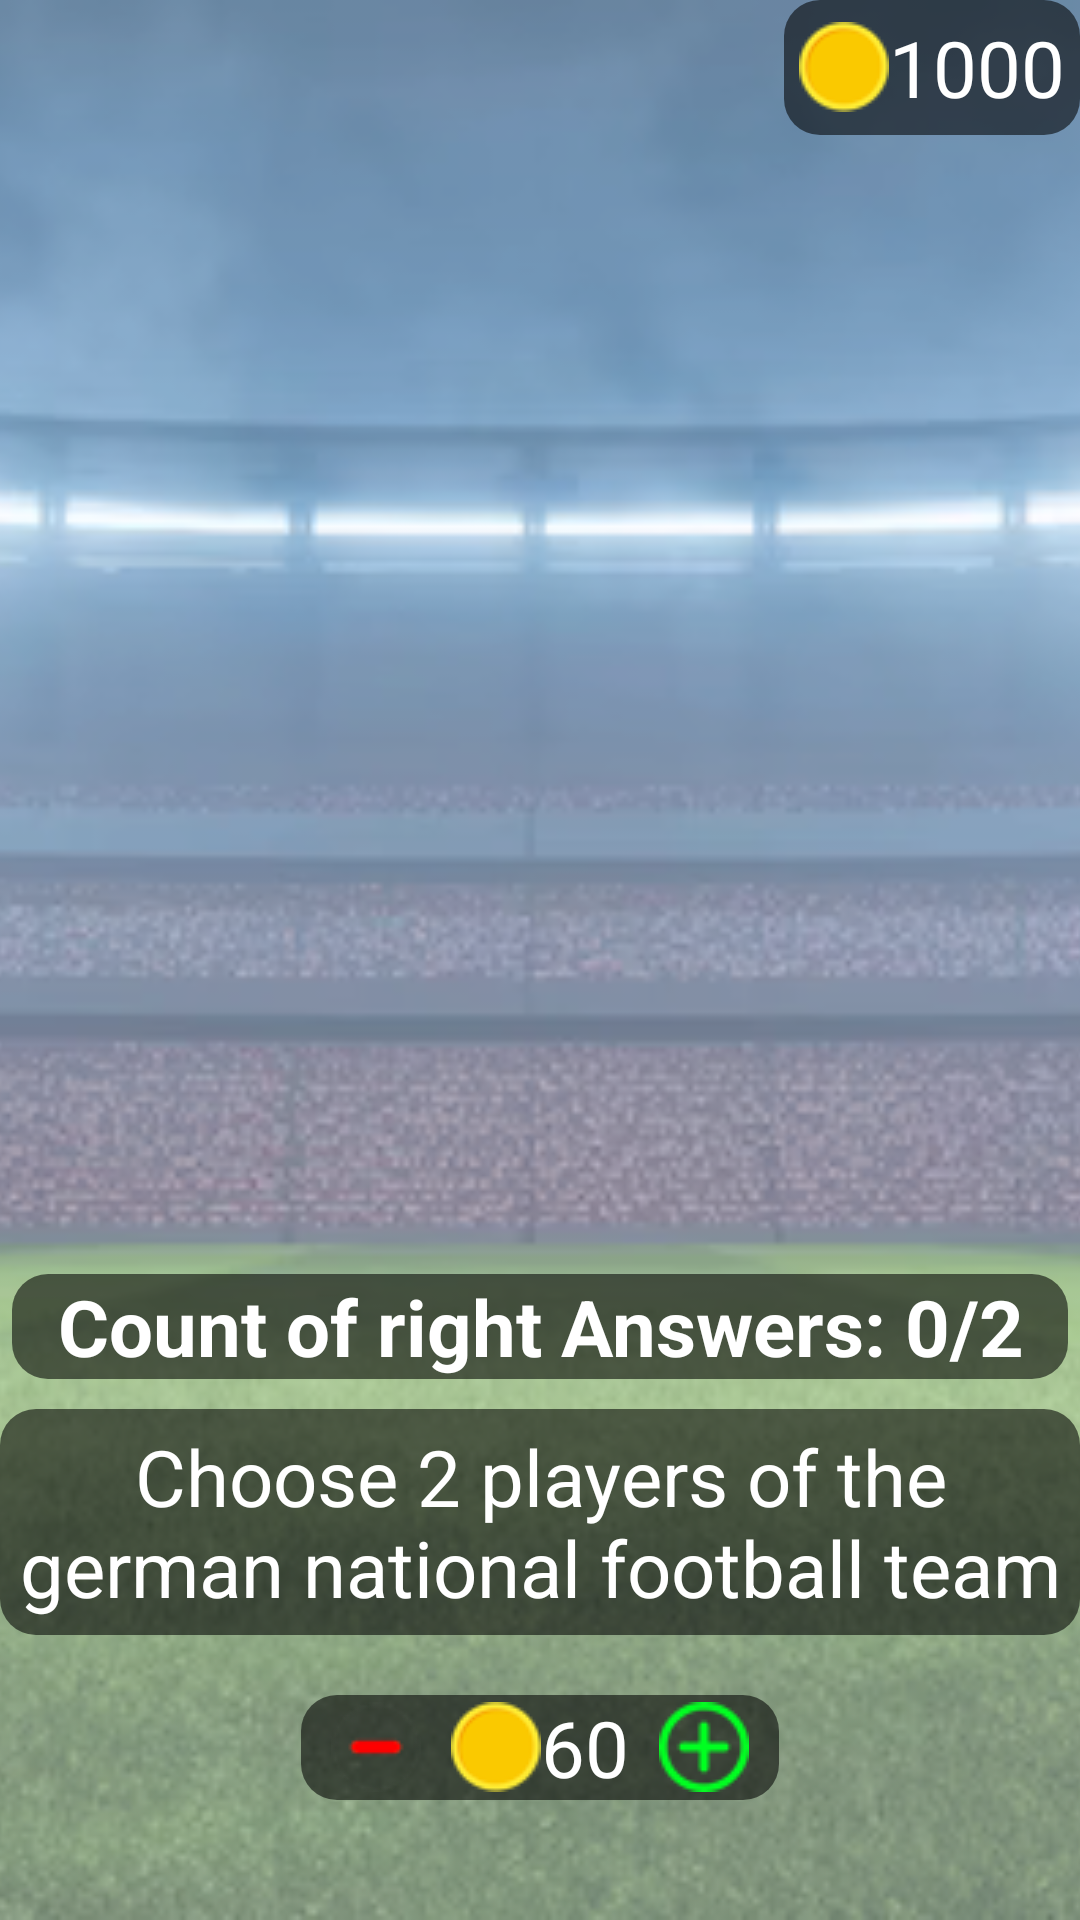

Icon click points for this 1080 × 1920 phone screenshot, format point (x, y):
minus: point (376, 1747)
plus: point (704, 1747)
